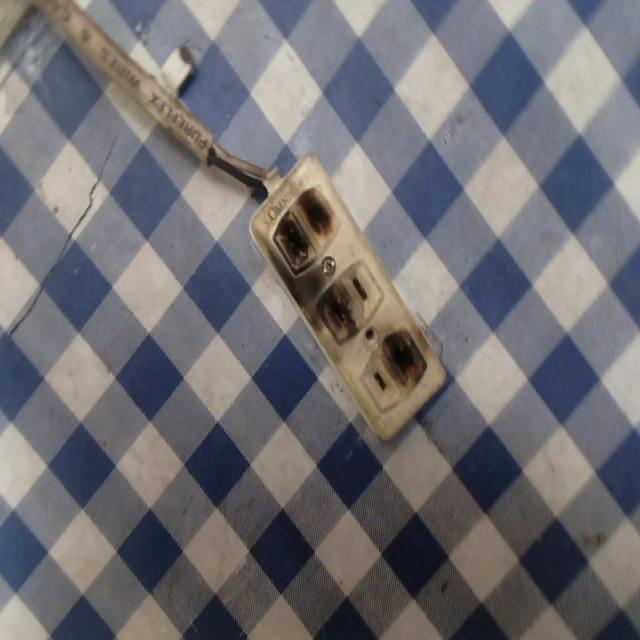-: (266, 184, 339, 272), (371, 311, 432, 389), (313, 278, 358, 342)
